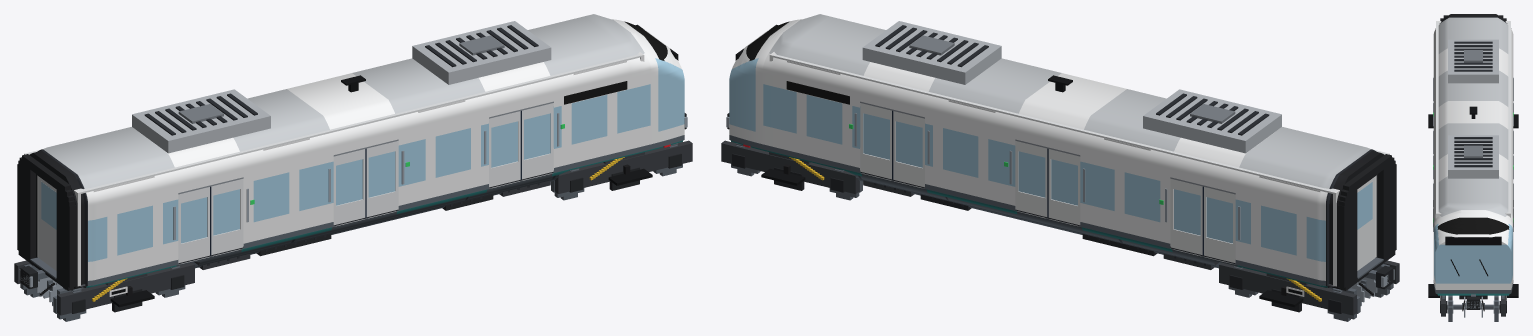
The model's file is mp14_front.obj.
3 views of the same model, side by side, from view 1: azimuth 30°, elevation 25°; view 2: azimuth 150°, elevation 25°; view 3: azimuth 270°, elevation 25° (orthographic). The views are drawn at different scales.
Visible parts, largest first — view 1: SHELL, SHELL_roof, SHELL_diaphragm, BOGEY_REAR, BOGEY_FRONT, SHELL_ceiling, EXTERNAL_DOOR_9_CG_DR2_TOGGLE_TL_-0.76_X, EXTERNAL_DOOR_3_CG_DR1_TOGGLE_TL_-0.76_X, EXTERNAL_DOOR_15_CG_DR3_TOGGLE_TL_-0.76_X, EXTERNAL_DOOR_10_CG_DR2_TOGGLE_TL_0.76_X, EXTERNAL_DOOR_4_CG_DR1_TOGGLE_TL_0.76_X, EXTERNAL_DOOR_16_CG_DR3_TOGGLE_TL_0.76_X (+6 smaller); view 2: SHELL, SHELL_roof, SHELL_diaphragm, BOGEY_REAR, BOGEY_FRONT, SHELL_ceiling, EXTERNAL_DOOR_12_CG_DL2_TOGGLE_TL_-0.76_X, EXTERNAL_DOOR_6_CG_DL1_TOGGLE_TL_-0.76_X, EXTERNAL_DOOR_18_CG_DL3_TOGGLE_TL_-0.76_X, EXTERNAL_DOOR_13_CG_DL2_TOGGLE_TL_0.76_X, EXTERNAL_DOOR_7_CG_DL1_TOGGLE_TL_0.76_X, EXTERNAL_DOOR_19_CG_DL3_TOGGLE_TL_0.76_X (+6 smaller); view 3: SHELL, SHELL_roof, SHELL_ceiling, BOGEY_FRONT, SHELL_destbox, BOGEY_FRONT_WHEEL_2, SHELL_handle, FRAME, BOGEY_REAR.
Part boxes in pixels (box(x1,y1,x2,y2)): SHELL: box(29, 14, 684, 289); SHELL_roof: box(132, 21, 551, 153); SHELL_diaphragm: box(17, 154, 75, 290); BOGEY_REAR: box(14, 260, 194, 315); BOGEY_FRONT: box(554, 140, 692, 193); SHELL_ceiling: box(26, 53, 640, 193); EXTERNAL_DOOR_9_CG_DR2_TOGGLE_TL_-0.76_X: box(333, 148, 366, 225); EXTERNAL_DOOR_3_CG_DR1_TOGGLE_TL_-0.76_X: box(178, 186, 211, 263); EXTERNAL_DOOR_15_CG_DR3_TOGGLE_TL_-0.76_X: box(489, 110, 521, 187); EXTERNAL_DOOR_10_CG_DR2_TOGGLE_TL_0.76_X: box(366, 141, 398, 216); EXTERNAL_DOOR_4_CG_DR1_TOGGLE_TL_0.76_X: box(211, 179, 243, 254); EXTERNAL_DOOR_16_CG_DR3_TOGGLE_TL_0.76_X: box(522, 103, 553, 179); SHELL: box(729, 14, 1384, 289); SHELL_roof: box(862, 21, 1281, 153); SHELL_diaphragm: box(1338, 154, 1396, 290); BOGEY_REAR: box(1219, 260, 1399, 315); BOGEY_FRONT: box(721, 140, 859, 193); SHELL_ceiling: box(773, 53, 1387, 193); EXTERNAL_DOOR_12_CG_DL2_TOGGLE_TL_-0.76_X: box(1047, 148, 1080, 225); EXTERNAL_DOOR_6_CG_DL1_TOGGLE_TL_-0.76_X: box(1202, 186, 1235, 263); EXTERNAL_DOOR_18_CG_DL3_TOGGLE_TL_-0.76_X: box(892, 110, 924, 187); EXTERNAL_DOOR_13_CG_DL2_TOGGLE_TL_0.76_X: box(1015, 141, 1047, 216); EXTERNAL_DOOR_7_CG_DL1_TOGGLE_TL_0.76_X: box(1170, 179, 1202, 254); EXTERNAL_DOOR_19_CG_DL3_TOGGLE_TL_0.76_X: box(860, 103, 891, 179); SHELL: box(1433, 14, 1513, 295); SHELL_roof: box(1448, 39, 1498, 178); SHELL_ceiling: box(1436, 21, 1510, 212); BOGEY_FRONT: box(1428, 284, 1518, 316); SHELL_destbox: box(1445, 236, 1501, 245); BOGEY_FRONT_WHEEL_2: box(1447, 295, 1499, 321); SHELL_handle: box(1433, 77, 1513, 231); FRAME: box(1462, 294, 1484, 311); BOGEY_REAR: box(1428, 114, 1518, 128).
Bounding box in the file's own units: 16.64 × 3.84 × 2.84.
Materials: 1 (1 with a texture image).
